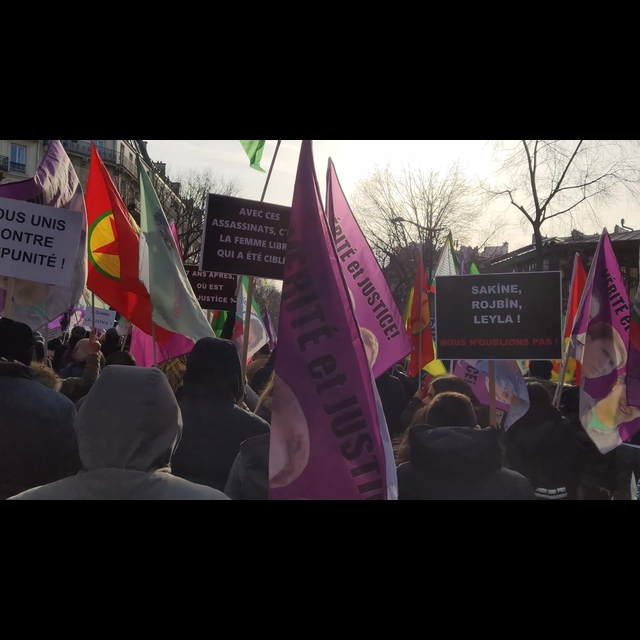PKK: (75, 141, 144, 320)
